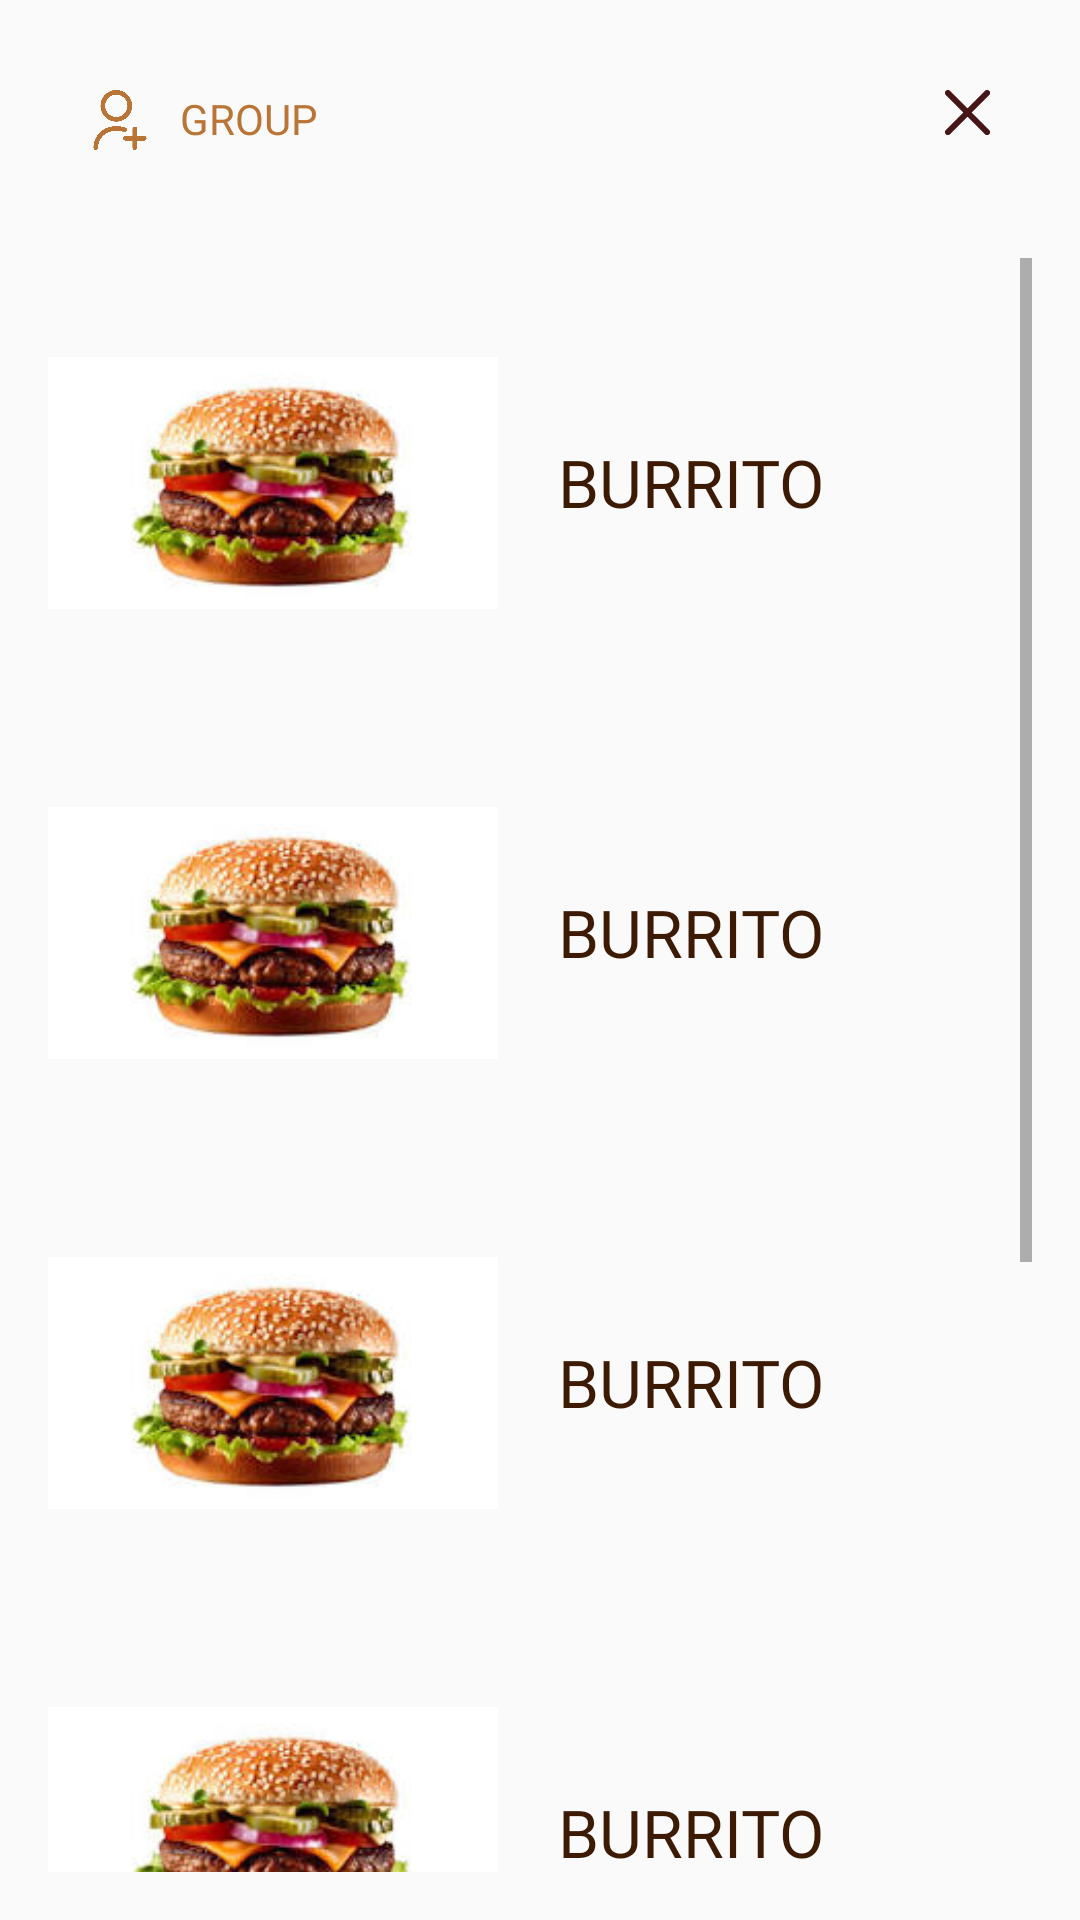

Icons on this 1080 x 1920 Android screen, each with the point to tap as [x,y]:
add user: [120,120]
close: [967,112]
